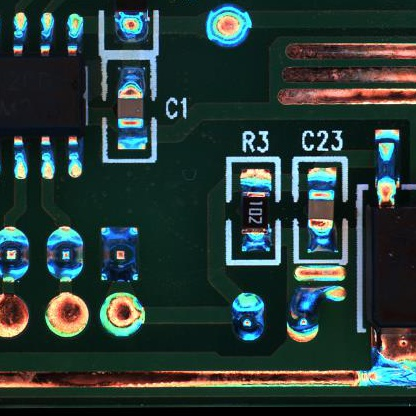spot: (99, 226, 142, 286), (44, 224, 84, 286), (205, 6, 249, 51), (232, 292, 266, 344), (1, 226, 30, 284)
